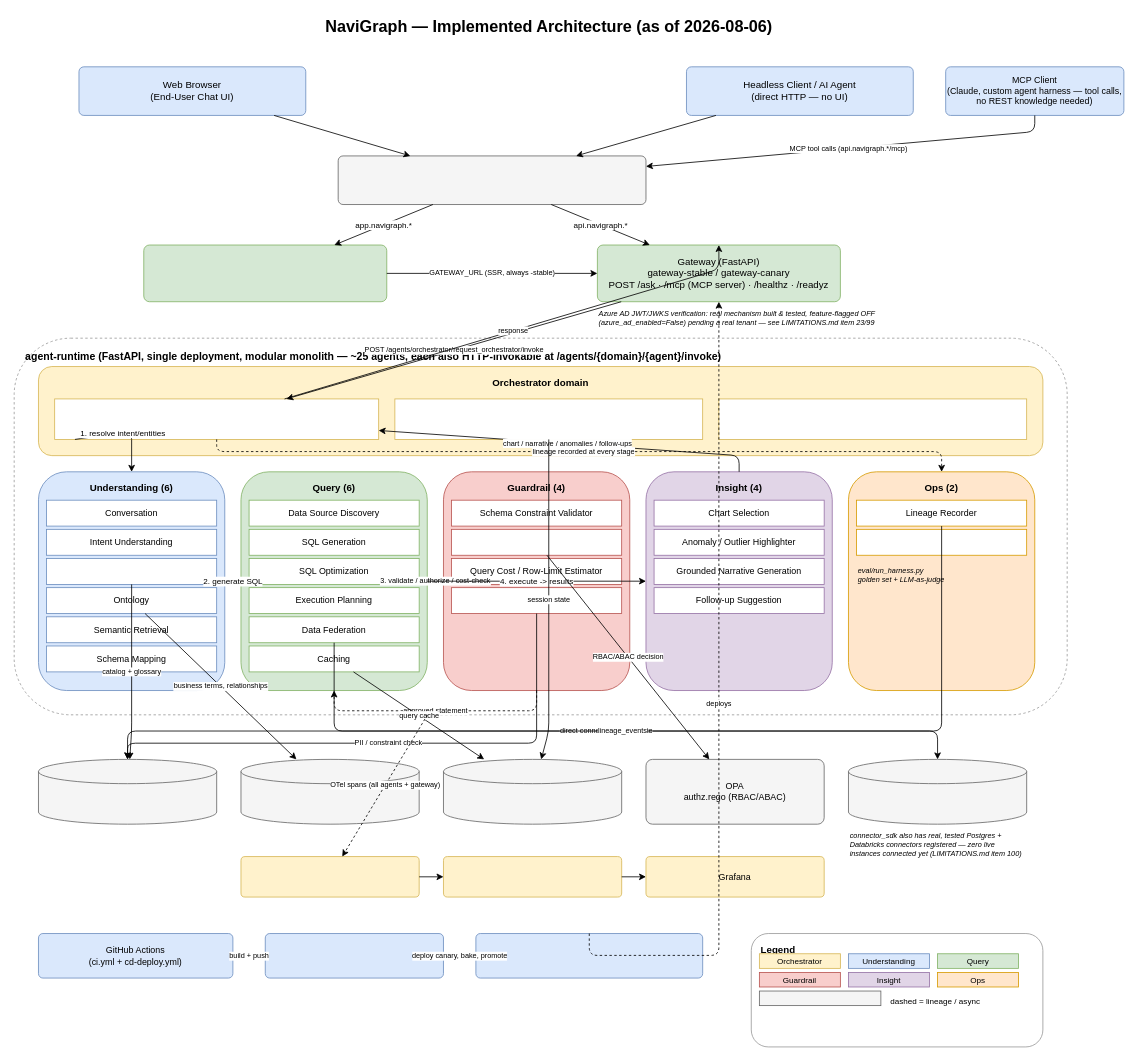
The diagram is 1138 pixels wide and 1061 high, and some of its shapes have lost their labels. Here are the shapes that lost their labels. From the top down, the centre of each, then its label:
At (x=491, y=180): "ingress-nginx + cert-manager (TLS · canary weight routing)".
At (x=265, y=273): "Web (Next.js) web-stable / web-canary".
At (x=216, y=418): "Request Orchestrator".
At (x=548, y=418): "Session / Context Manager".
At (x=872, y=418): "Clarification Coordinator".
At (x=536, y=542): "Policy Authorization (OPA)".
At (x=941, y=542): "Evaluation Judge".
At (x=131, y=571): "Metadata Discovery".
At (x=536, y=600): "PII Exposure Checker".
At (x=127, y=791): "Postgres metadata_catalog + lineage".
At (x=329, y=791): "Neo4j knowledge graph (BusinessConcept, RelationshipConcept, reference nodes)".
At (x=532, y=791): "Redis session state + query cache".
At (x=937, y=791): "Snowflake (external) 2 tenants: FIDELITY_POC (brokerage), ECOMMERCE_POC".
At (x=329, y=876): "OTel Collector".
At (x=532, y=876): "Prometheus".
At (x=353, y=955): "ACR (container images)".
At (x=589, y=955): "AKS canary rollout 10% → 50% → 100% → promote".
At (x=820, y=998): "Data store / infra".
